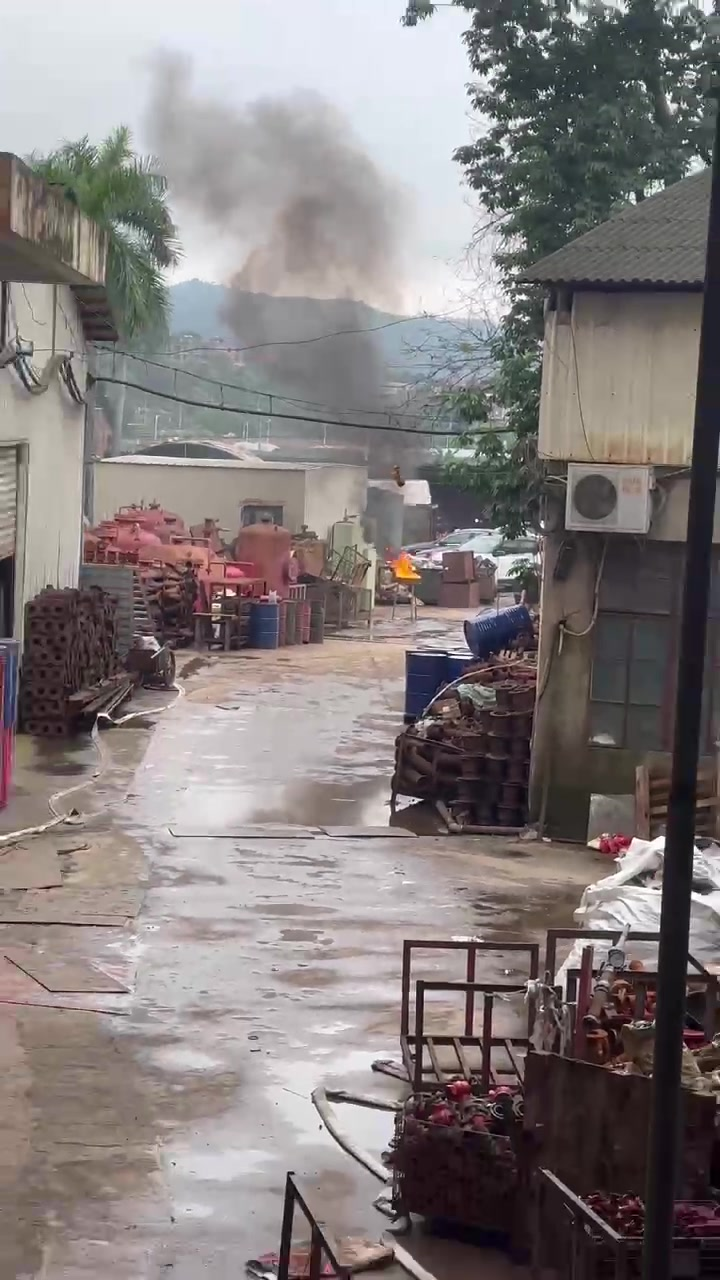fire: (391, 551, 420, 577)
